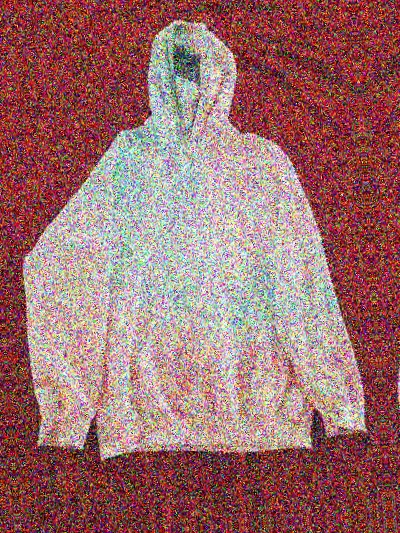Hoodie: (7, 14, 357, 478), (383, 0, 400, 451)
